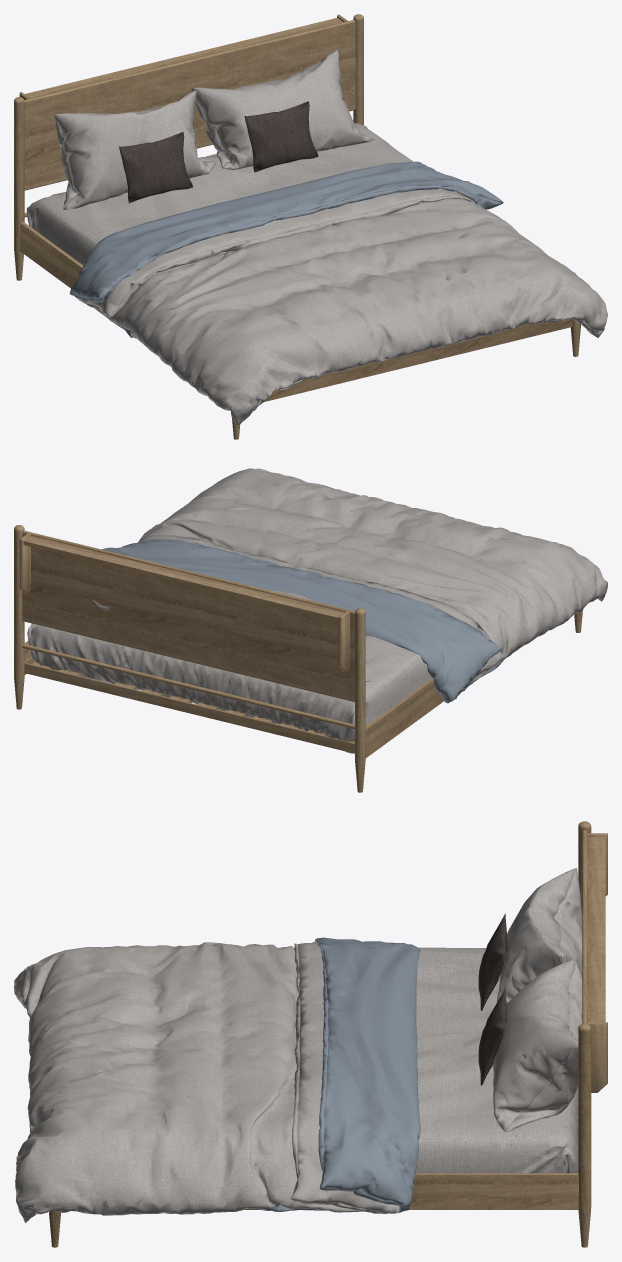
Rendered from bed.glb.
The picture shows the model from 3 angles, top to bottom: view 1: azimuth 30°, elevation 25°; view 2: azimuth 150°, elevation 25°; view 3: azimuth 270°, elevation 25°; orthographic projection. The views are drawn at different scales.
Visible parts, largest first — view 1: Mesh1_Material__300w_0, Mesh10____SING________QQ___469733580___173_14_0, Mesh1_Material__611_0, Mesh52_Material_1_0; view 2: Mesh1_Material__300w_0, Mesh10____SING________QQ___469733580___173_14_0, Mesh1_Material__611_0; view 3: Mesh1_Material__300w_0, Mesh1_Material__611_0, Mesh10____SING________QQ___469733580___173_14_0, Mesh52_Material_1_0.
Boxes of the visible parts, x1,y1,x2,y2 form: Mesh1_Material__300w_0: (26,50,607,426); Mesh10____SING________QQ___469733580___173_14_0: (14,14,580,439); Mesh1_Material__611_0: (69,161,503,338); Mesh52_Material_1_0: (119,101,318,203); Mesh1_Material__300w_0: (27,468,607,753); Mesh10____SING________QQ___469733580___173_14_0: (14,525,582,792); Mesh1_Material__611_0: (102,538,523,703); Mesh1_Material__300w_0: (14,868,582,1223); Mesh1_Material__611_0: (217,937,420,1213); Mesh10____SING________QQ___469733580___173_14_0: (49,821,607,1247); Mesh52_Material_1_0: (478,913,507,1085).
Size of the model in its own units: 1.98 by 0.8452 by 2.05.
Materials: 4 (3 with a texture image).
